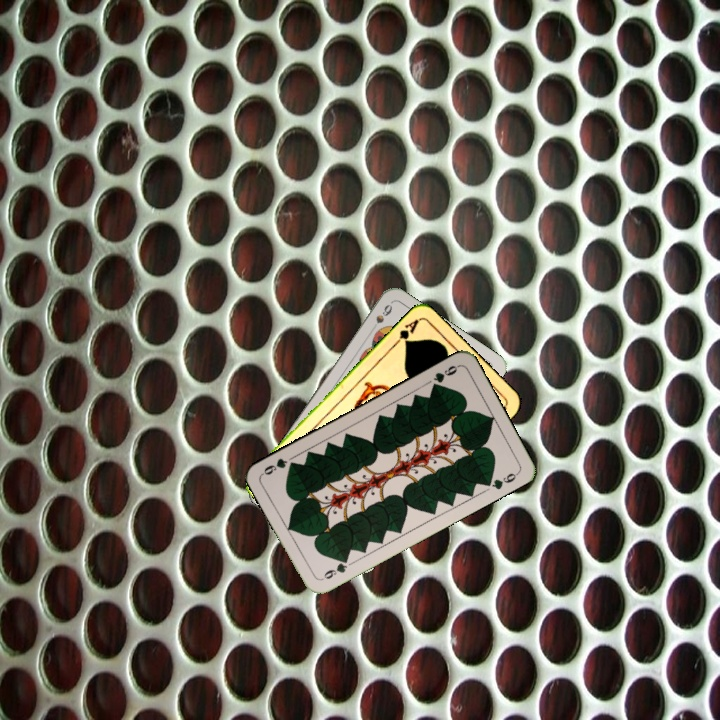G9: (428, 361, 462, 392), (317, 554, 351, 583)
GA: (389, 315, 421, 349)
S9: (366, 300, 395, 335)
